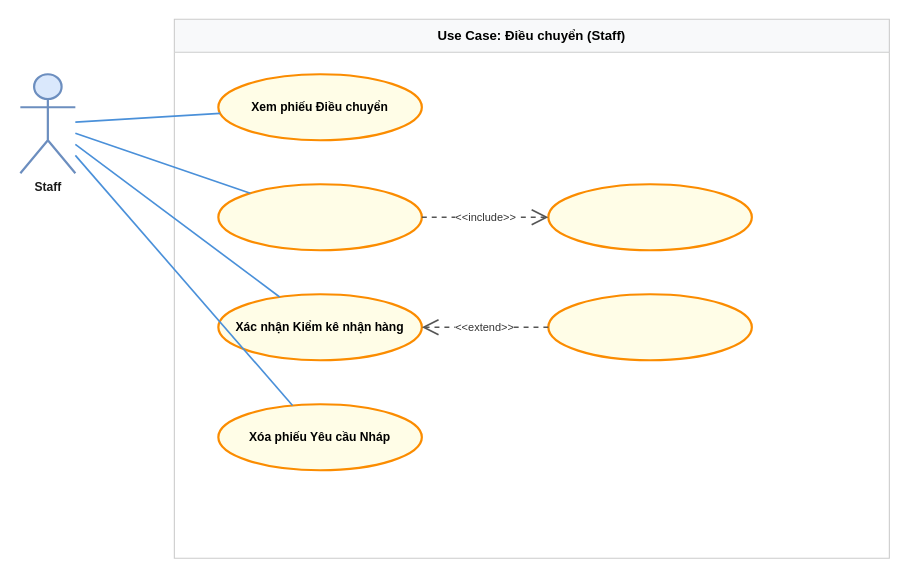
Image size: 909x578. Some labels were removed from this diagram. Each missing label, with the centre of its shape:
Báo cáo chênh lệch/lỗi: the point at 649,327
Chọn chi nhánh Nguồn: the point at 649,217
Lập phiếu Yêu cầu xin hàng: the point at 319,217
